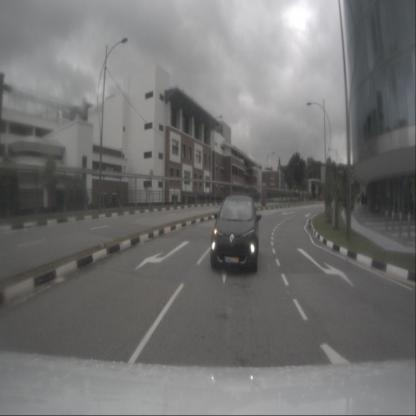vehicle-car: (210, 195, 259, 272)
